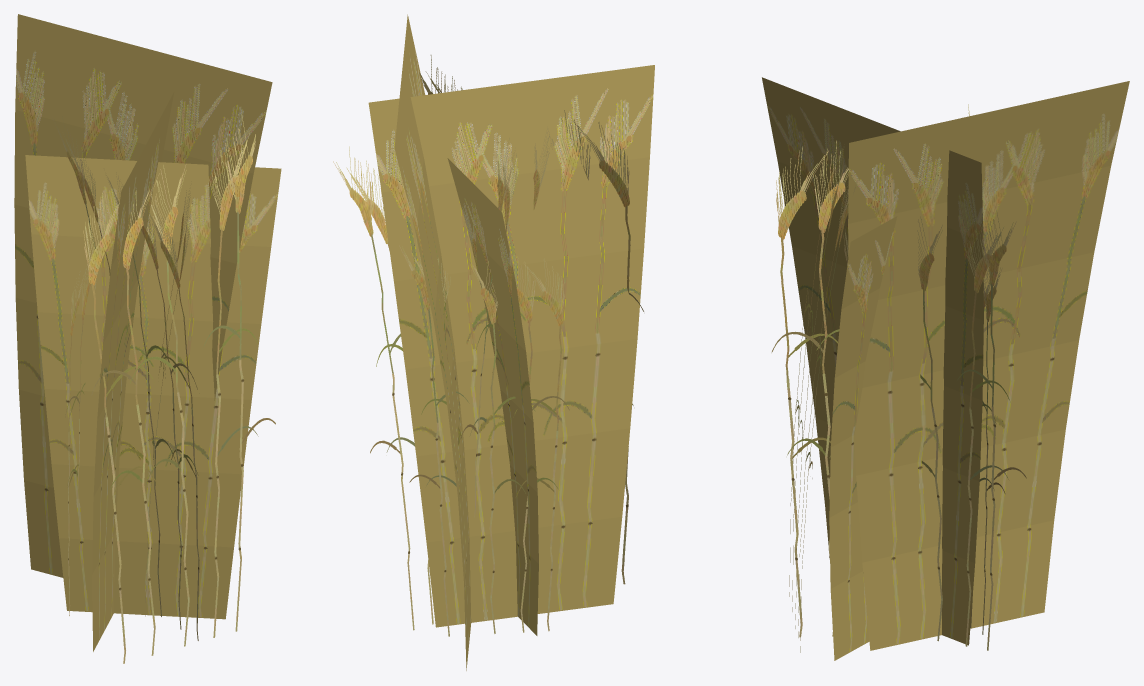
Rendered from wheat_game.glb.
3 views of the same model, side by side, from view 1: azimuth 30°, elevation 25°; view 2: azimuth 150°, elevation 25°; view 3: azimuth 270°, elevation 25° (orthographic). The views are drawn at different scales.
Parts seen in each view (by area): view 1: wheat_clump; view 2: wheat_clump; view 3: wheat_clump.
Boxes of the visible parts, left/top/right/bottom form: wheat_clump: left=14, top=14, right=281, bottom=663; wheat_clump: left=333, top=14, right=654, bottom=670; wheat_clump: left=762, top=77, right=1129, bottom=660.
Size of the model in its own units: 0.5736 by 1.04 by 0.7239.
2 materials, 2 textured.
